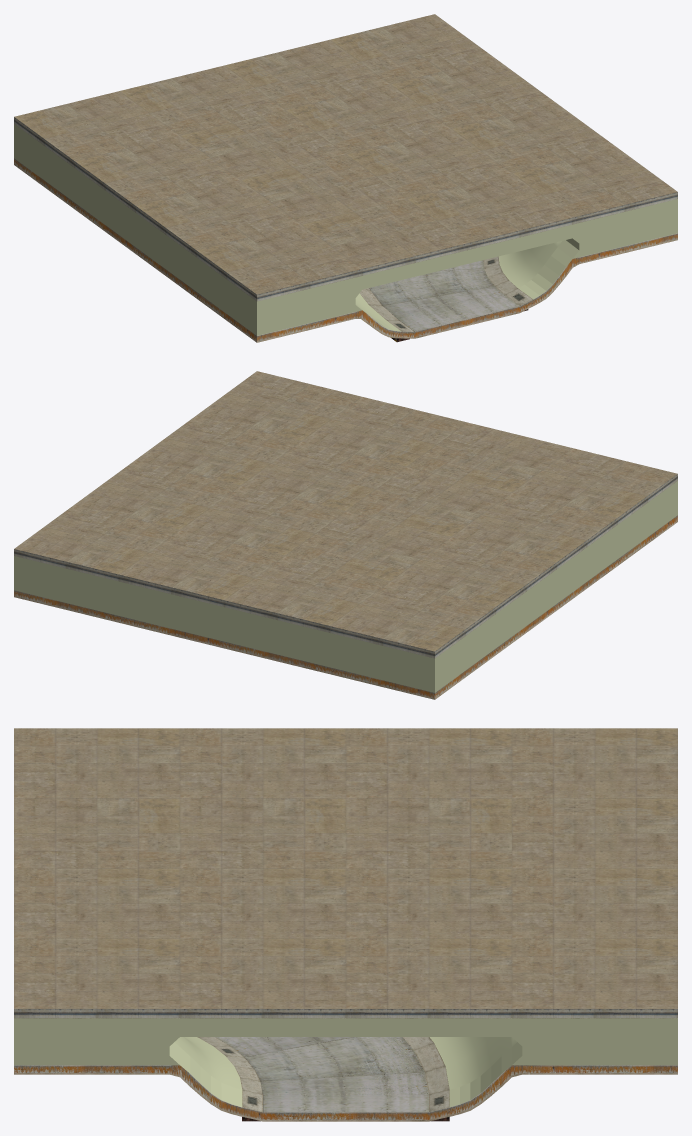
File: PlatformUnitHor_L.fbx
3 views of the same model, one above another, from view 1: azimuth 30°, elevation 25°; view 2: azimuth 150°, elevation 25°; view 3: azimuth 270°, elevation 25° (orthographic). The views are drawn at different scales.
Visible parts, largest first — view 1: PlatformUnitHor_L_Lod0; view 2: PlatformUnitHor_L_Lod0; view 3: PlatformUnitHor_L_Lod0.
Part boxes in pixels (x1,y1,x2,y2): PlatformUnitHor_L_Lod0: [14, 14, 677, 342]; PlatformUnitHor_L_Lod0: [14, 371, 677, 699]; PlatformUnitHor_L_Lod0: [14, 728, 677, 1121].
Bounding box in the file's own units: 64 × 12.58 × 64.02.
